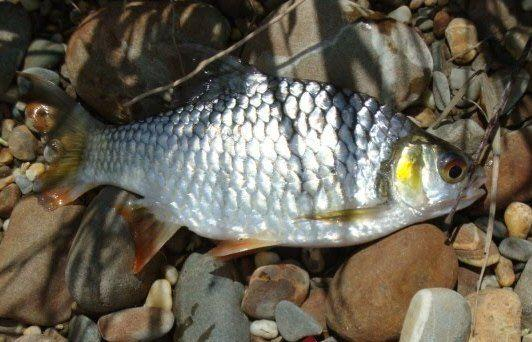Silver Barb: (32, 54, 494, 271)
